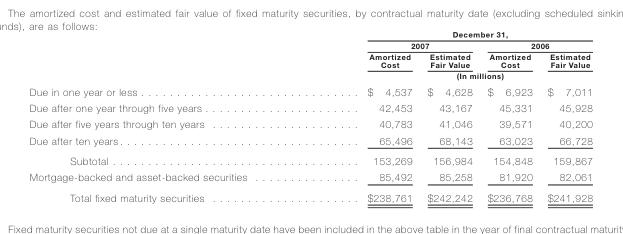table: (28, 29, 592, 202)
table column: (28, 29, 306, 202), (306, 29, 419, 202), (419, 29, 479, 202), (479, 29, 539, 202), (539, 29, 592, 202)
table column header: (28, 29, 592, 82)
table row: (28, 50, 592, 69), (28, 168, 592, 187), (28, 132, 592, 150), (28, 150, 592, 168), (28, 82, 592, 99), (28, 115, 592, 132), (28, 99, 592, 115), (28, 187, 592, 202), (28, 69, 592, 82), (28, 39, 592, 50), (28, 29, 592, 39)
table spanning cell: (306, 69, 592, 82), (306, 29, 592, 39), (306, 39, 479, 50), (479, 39, 592, 50)
